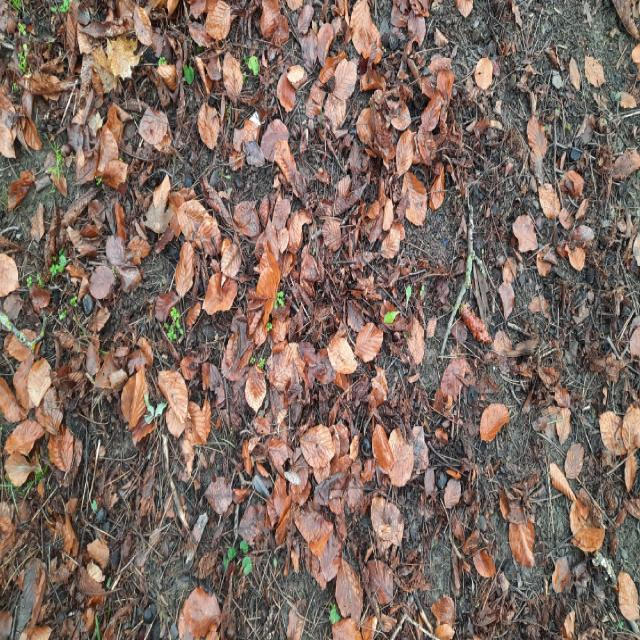white-sand: (88, 180, 92, 182)
